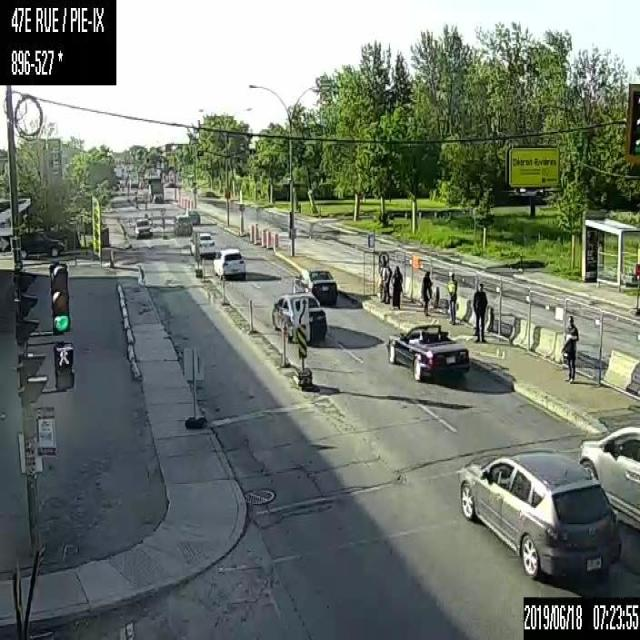construction: (281, 328, 288, 367), (247, 298, 253, 334), (635, 263, 639, 316), (219, 277, 226, 307), (249, 222, 254, 240), (272, 232, 276, 250), (266, 228, 270, 246), (261, 227, 265, 245), (254, 224, 258, 242)
pedestrian: (560, 313, 578, 384), (472, 281, 487, 344), (378, 249, 392, 302), (446, 272, 458, 324), (420, 269, 433, 315), (391, 264, 403, 308)
vehicle: (458, 452, 620, 579), (580, 422, 639, 534), (386, 322, 468, 382), (270, 292, 327, 340), (292, 268, 337, 306), (213, 245, 246, 280), (17, 232, 65, 256), (189, 231, 215, 258), (146, 176, 164, 201), (133, 216, 152, 236), (173, 214, 191, 235), (183, 208, 200, 224)
